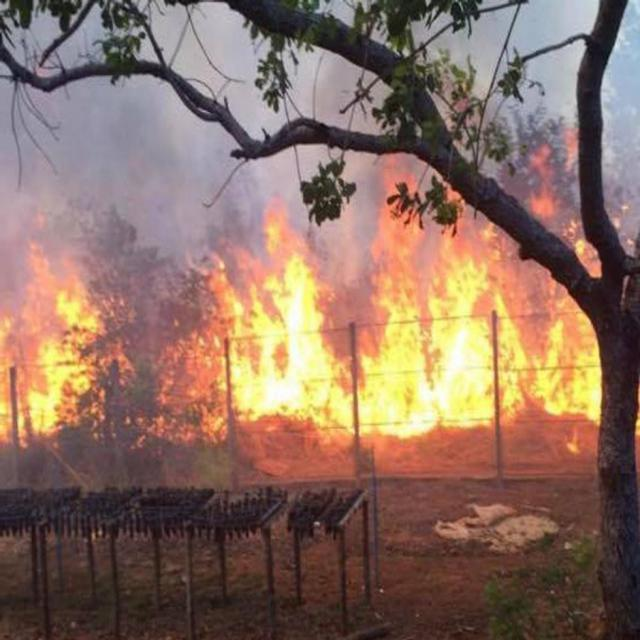Fire: (152, 172, 588, 461), (2, 238, 122, 446)
